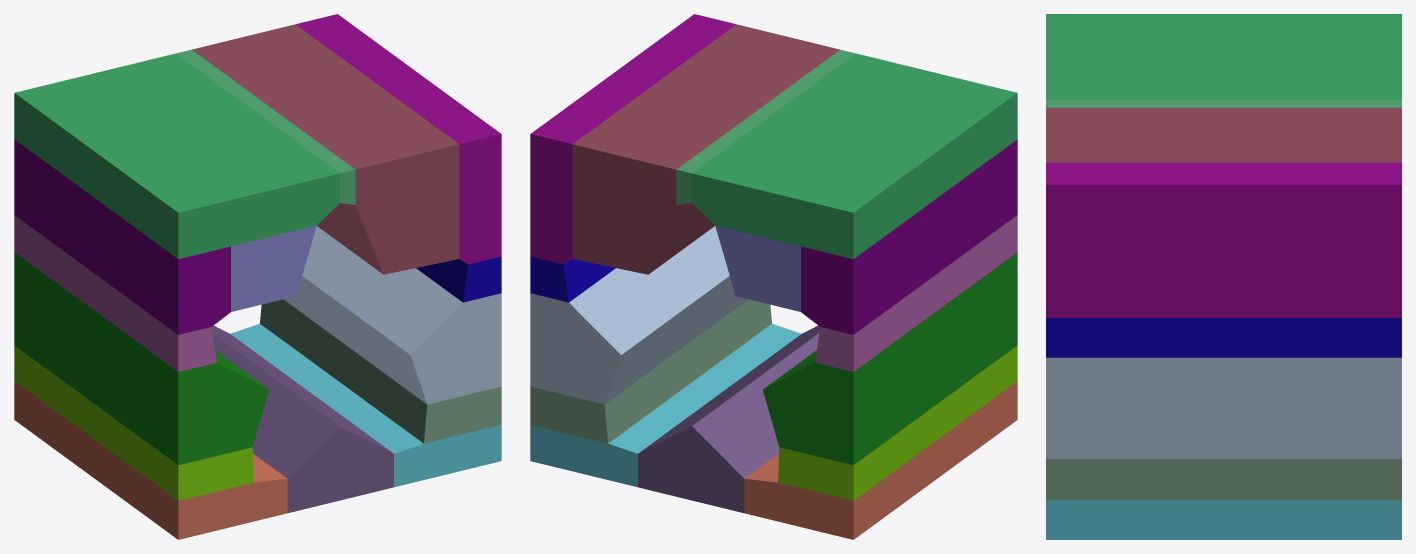
File: hole_5.obj
The picture shows the model from 3 angles, left to right: view 1: azimuth 30°, elevation 25°; view 2: azimuth 150°, elevation 25°; view 3: azimuth 270°, elevation 25°; orthographic projection. The views are drawn at different scales.
Visible parts, largest first — view 1: geometry_10, geometry_13, geometry_8, geometry_6, geometry_11, geometry_1, geometry_14, geometry_9, geometry_0, geometry_2, geometry_4, geometry_7 (+3 smaller); view 2: geometry_10, geometry_13, geometry_8, geometry_6, geometry_11, geometry_1, geometry_14, geometry_9, geometry_0, geometry_2, geometry_4, geometry_7 (+3 smaller); view 3: geometry_14, geometry_6, geometry_10, geometry_13, geometry_0, geometry_2, geometry_5, geometry_3.
Part boxes in pixels (bbox=[...]): geometry_10: bbox=[14, 53, 339, 259]; geometry_13: bbox=[192, 24, 459, 274]; geometry_8: bbox=[14, 252, 268, 465]; geometry_6: bbox=[284, 226, 501, 404]; geometry_11: bbox=[14, 139, 230, 334]; geometry_1: bbox=[212, 325, 393, 512]; geometry_14: bbox=[296, 14, 501, 264]; geometry_9: bbox=[14, 381, 287, 539]; geometry_0: bbox=[260, 299, 501, 443]; geometry_2: bbox=[230, 323, 501, 487]; geometry_4: bbox=[14, 345, 253, 500]; geometry_7: bbox=[14, 215, 216, 371]; geometry_10: bbox=[692, 53, 1017, 259]; geometry_13: bbox=[572, 24, 839, 274]; geometry_8: bbox=[763, 252, 1017, 465]; geometry_6: bbox=[530, 226, 747, 404]; geometry_11: bbox=[801, 139, 1017, 334]; geometry_1: bbox=[638, 325, 819, 512]; geometry_14: bbox=[530, 14, 735, 264]; geometry_9: bbox=[744, 381, 1017, 539]; geometry_0: bbox=[530, 299, 771, 443]; geometry_2: bbox=[530, 323, 801, 487]; geometry_4: bbox=[778, 345, 1017, 500]; geometry_7: bbox=[815, 215, 1017, 371]; geometry_14: bbox=[1046, 162, 1401, 317]; geometry_6: bbox=[1046, 357, 1401, 458]; geometry_10: bbox=[1046, 14, 1401, 99]; geometry_13: bbox=[1046, 107, 1401, 162]; geometry_0: bbox=[1046, 459, 1401, 500]; geometry_2: bbox=[1046, 500, 1401, 539]; geometry_5: bbox=[1046, 318, 1401, 357]; geometry_3: bbox=[1046, 99, 1401, 107].
Bounding box in the file's own units: 0.0569 × 0.055 × 0.05.
